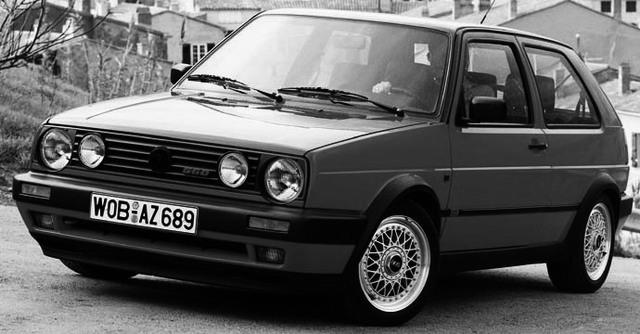car: (12, 10, 634, 318)
